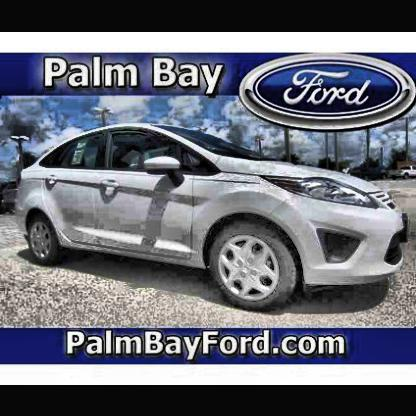Ford Fiesta Sedan 2012: (15, 123, 409, 314)
